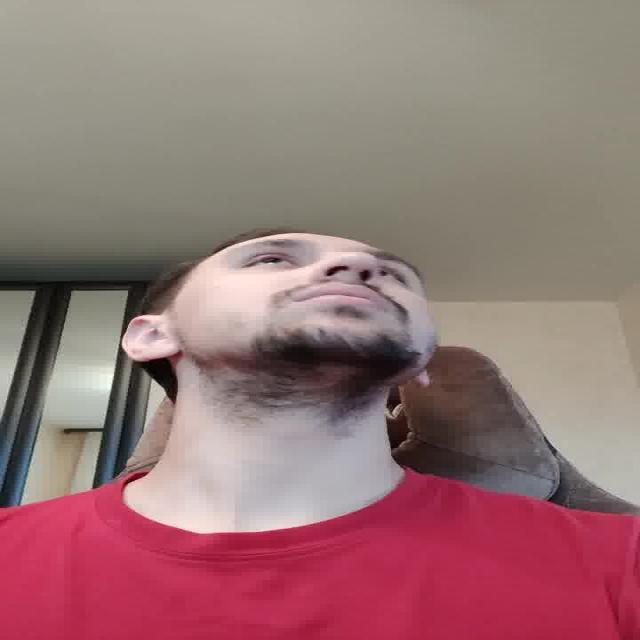earlobe: (139, 347, 180, 361), (406, 374, 437, 390)
eye: (246, 256, 296, 267), (377, 267, 407, 281)
nose: (316, 272, 374, 286)
wholeear: (123, 313, 181, 361)
